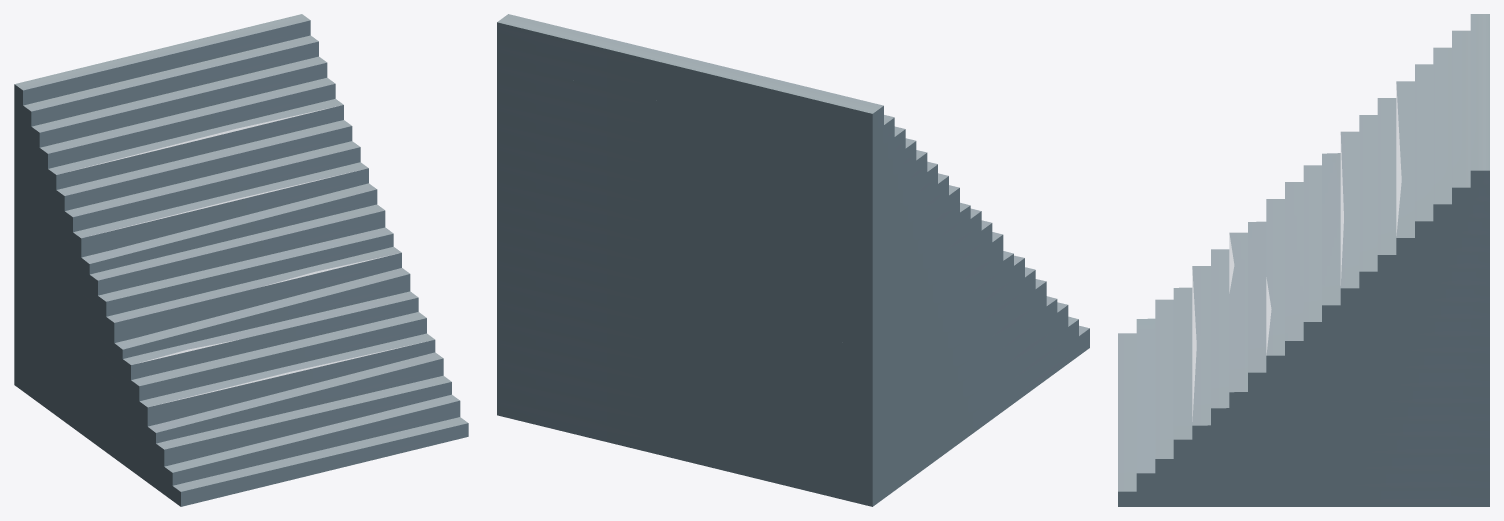
The model's file is STAIRS.fbx.
3 views of the same model, side by side, from view 1: azimuth 30°, elevation 25°; view 2: azimuth 150°, elevation 25°; view 3: azimuth 270°, elevation 25° (orthographic). The views are drawn at different scales.
Visible parts, largest first — view 1: Ceiling__2_; view 2: Ceiling__2_; view 3: Ceiling__2_.
Boxes of the visible parts, x1,y1,x2,y2 form: Ceiling__2_: [14, 14, 468, 506]; Ceiling__2_: [497, 14, 1089, 506]; Ceiling__2_: [1118, 14, 1489, 506].
Size of the model in its own units: 400 by 400 by 401.
